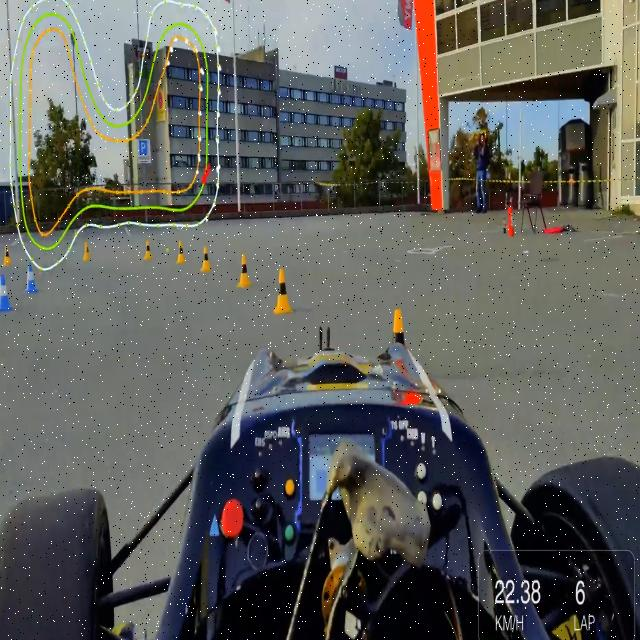blue_cone: (0, 272, 14, 312), (24, 262, 38, 294)
yellow_cone: (385, 308, 413, 382), (272, 265, 292, 318), (235, 252, 252, 290), (200, 244, 211, 274), (176, 239, 186, 265), (142, 238, 152, 260), (3, 246, 13, 268), (82, 242, 90, 262)
